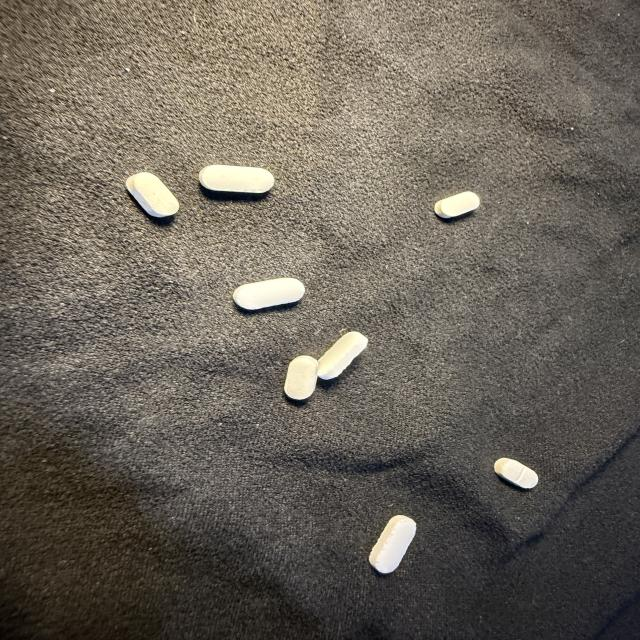pill: (369, 516, 416, 573), (126, 172, 179, 217), (318, 332, 368, 379), (233, 278, 305, 309), (199, 165, 274, 193), (285, 356, 318, 400), (495, 458, 538, 488), (435, 192, 479, 218)
